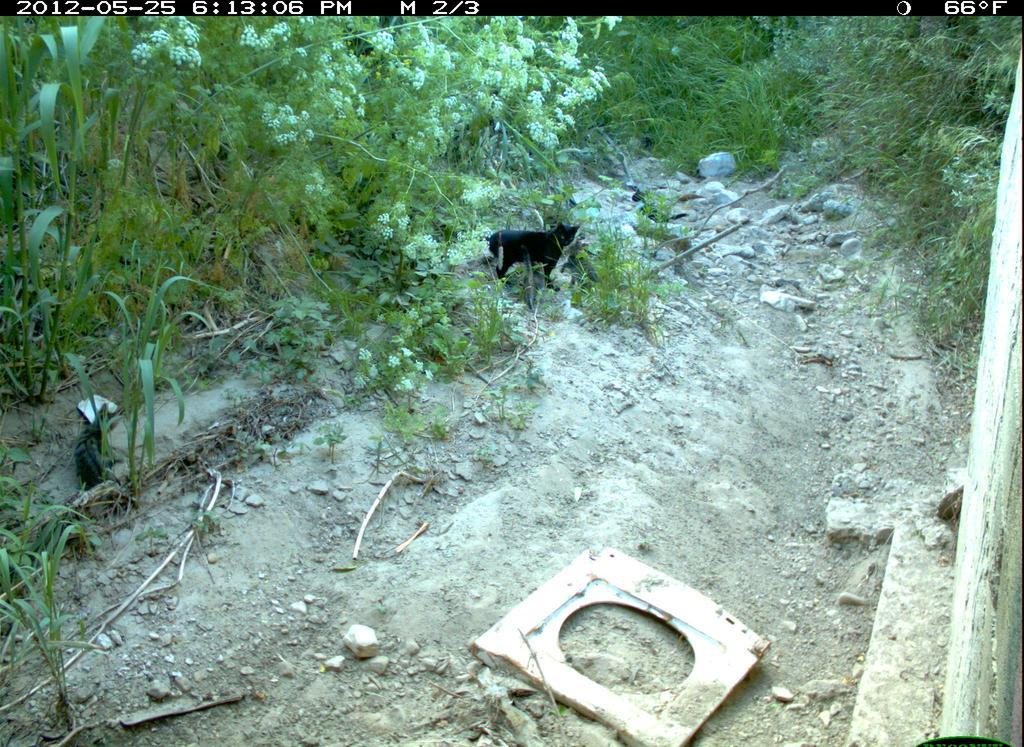cat: (474, 210, 603, 300), (61, 388, 143, 505)
